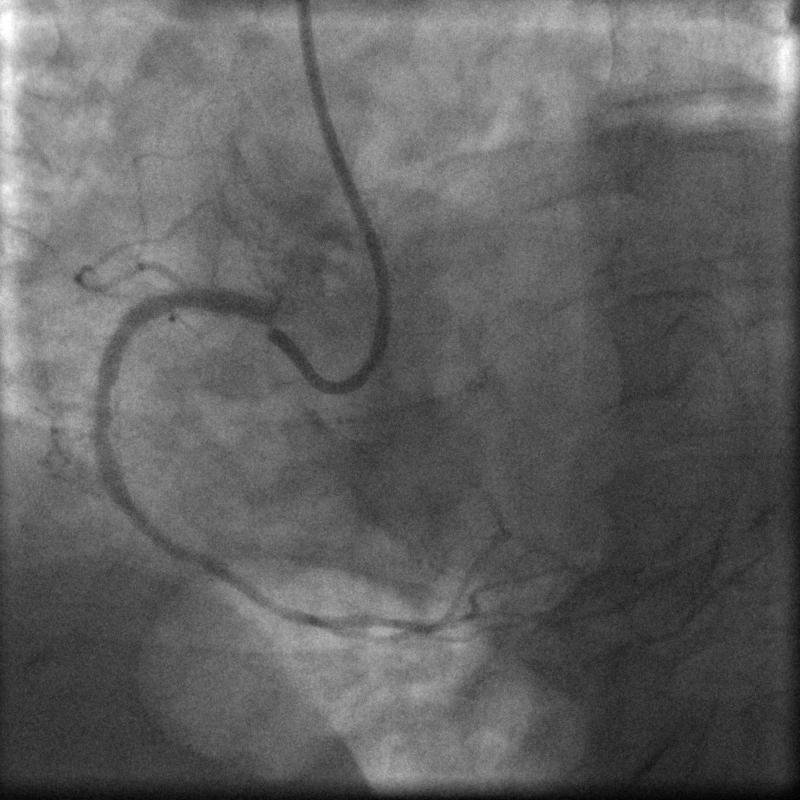Stenosis: (89, 384, 117, 472)
